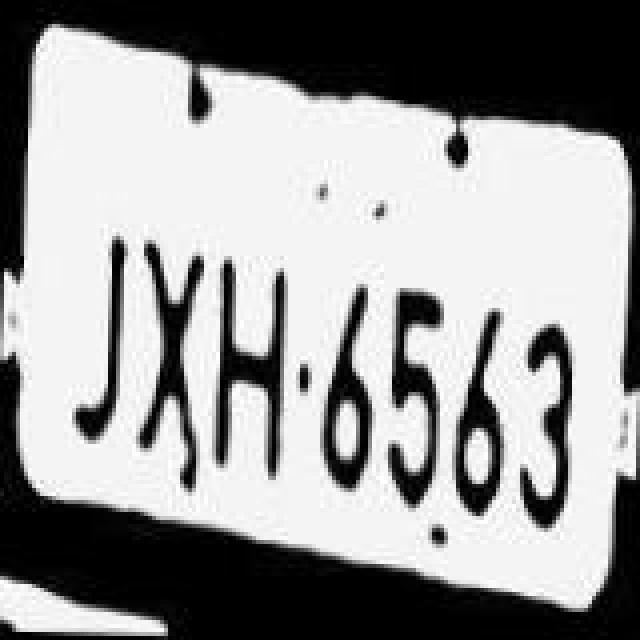3: (508, 294, 588, 562)
5: (382, 262, 454, 518)
6: (314, 248, 386, 512), (446, 276, 518, 532)
H: (210, 242, 290, 478)
J: (50, 176, 134, 448)
X: (128, 216, 208, 444)
